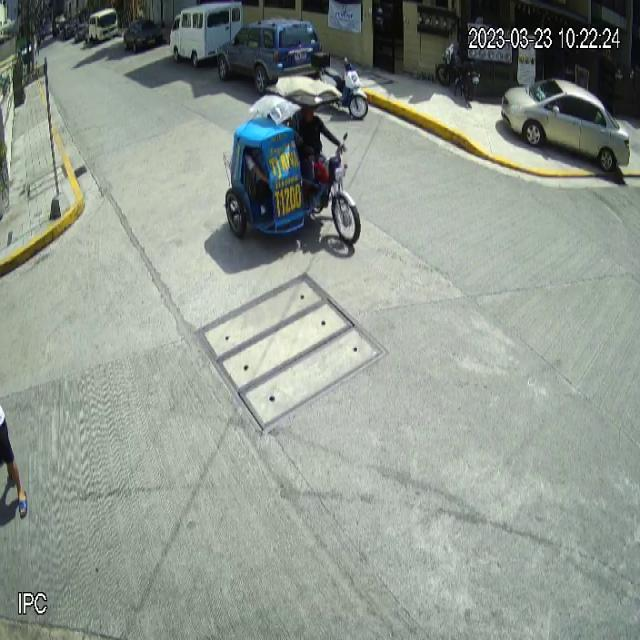Car: (500, 80, 630, 172), (217, 18, 323, 96)
Tricycle: (223, 77, 361, 248)
Van: (170, 3, 242, 68)
